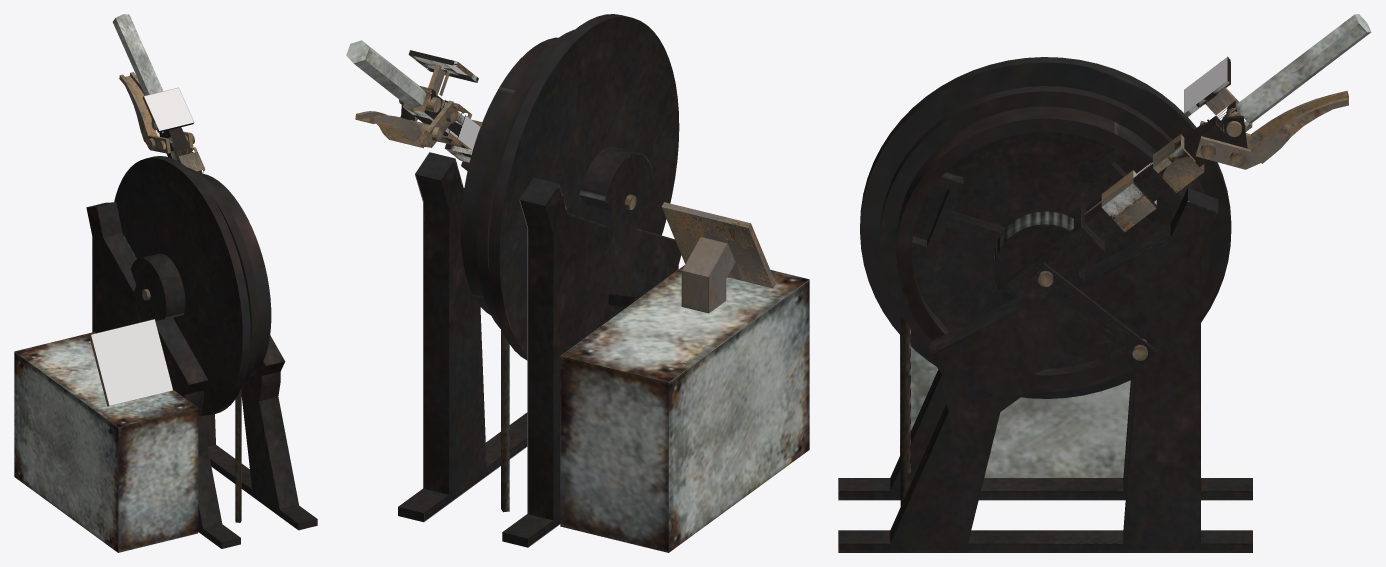
Rendered from signalslever.obj.
3 renders of one model, left to right at view 1: azimuth 30°, elevation 25°; view 2: azimuth 150°, elevation 25°; view 3: azimuth 270°, elevation 25°, orthographic. The views are drawn at different scales.
Parts seen in each view (by area): view 1: Base01_B01, Hebelwerk01_H01, Hebelwerk02_H02; view 2: Base01_B01, Hebelwerk01_H01, Hebelwerk02_H02; view 3: Base01_B01, Hebelwerk01_H01, Hebelwerk02_H02.
Part boxes in pixels (<box>): Base01_B01: <box>14,202,317,552</box>; Hebelwerk01_H01: <box>112,14,271,416</box>; Hebelwerk02_H02: <box>142,96,205,173</box>; Base01_B01: <box>398,146,809,552</box>; Hebelwerk01_H01: <box>346,14,679,360</box>; Hebelwerk02_H02: <box>402,50,481,162</box>; Base01_B01: <box>838,188,1252,552</box>; Hebelwerk01_H01: <box>860,14,1371,398</box>; Hebelwerk02_H02: <box>1085,56,1252,232</box>.
Size of the model in its own units: 0.595 by 1.13 by 1.03.
Materials: 1 (1 with a texture image).
